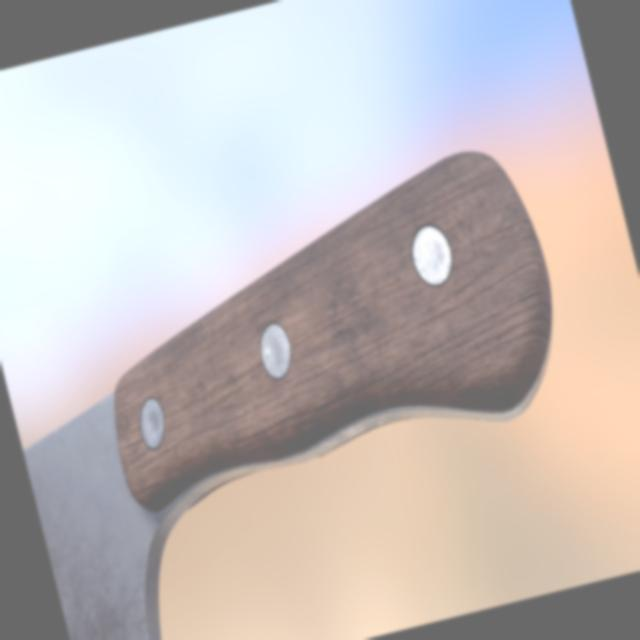cleaver: (0, 137, 619, 640)
